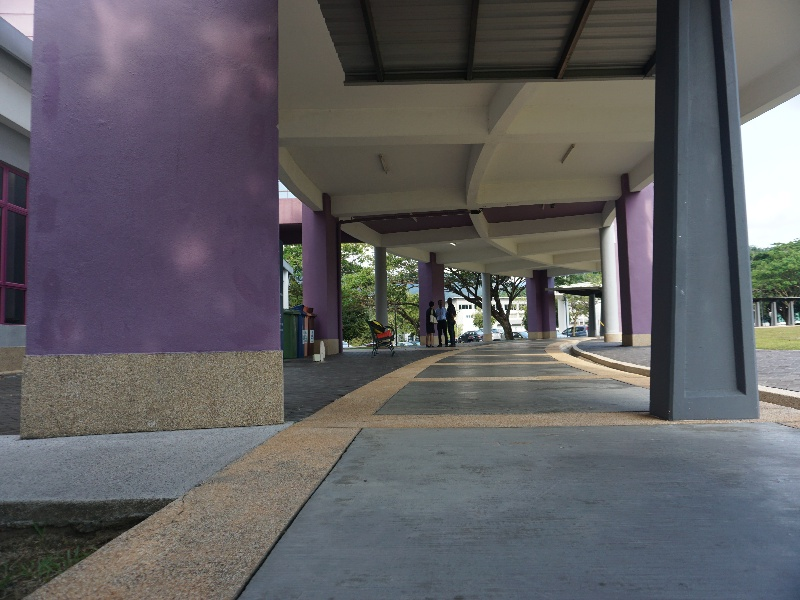Block D Pillar 1: (6, 4, 800, 507)
pillar: (23, 4, 290, 428), (649, 6, 757, 427), (295, 188, 350, 364), (521, 266, 562, 336), (472, 267, 495, 352), (372, 244, 391, 338)
